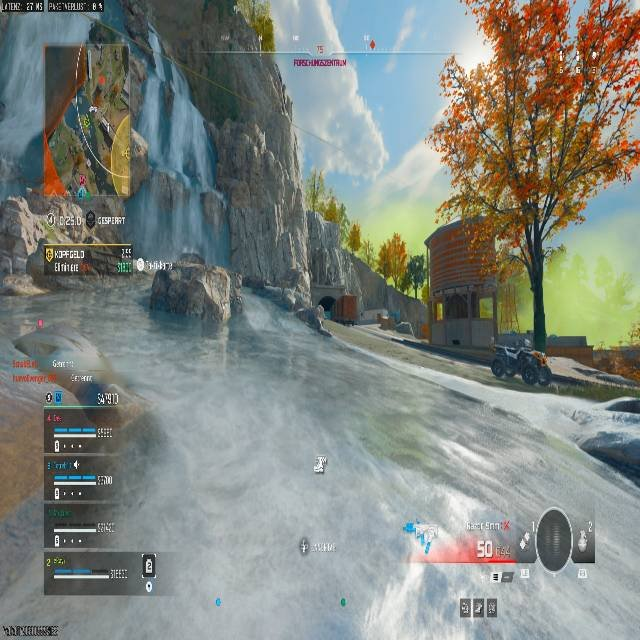player: (488, 335, 557, 390)
